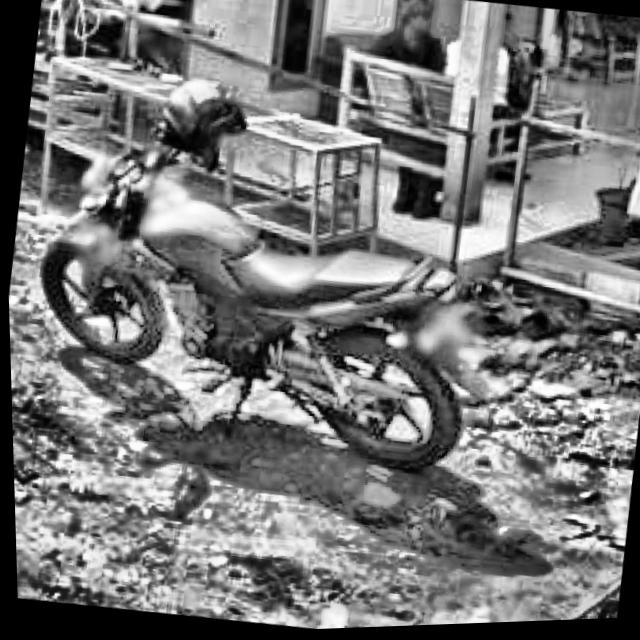motorcycle: (1, 43, 553, 502)
